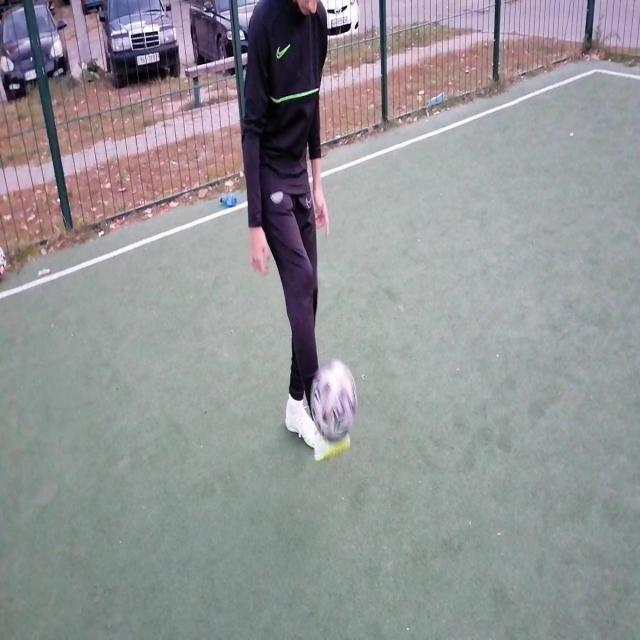ball: (308, 357, 358, 441)
